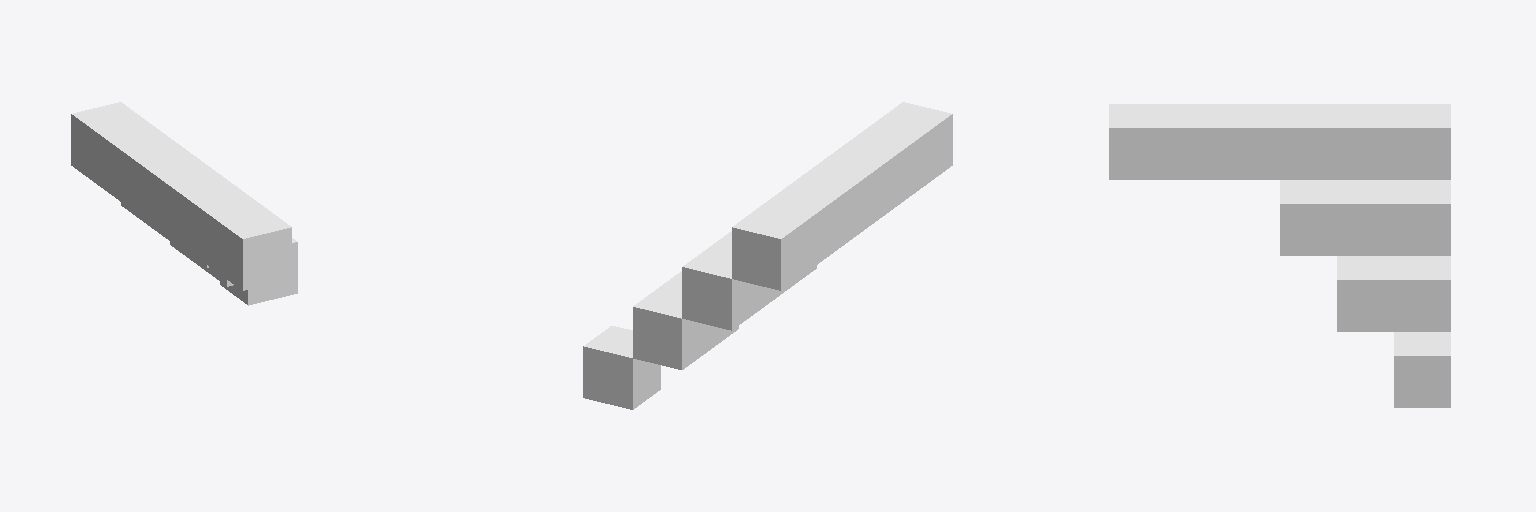
Rendered from YellowHouseParts-89.obj.
The picture shows the model from 3 angles: view 1: azimuth 30°, elevation 25°; view 2: azimuth 150°, elevation 25°; view 3: azimuth 270°, elevation 25°; orthographic projection.
Parts seen in each view (by area): view 1: object 1; view 2: object 1; view 3: object 1.
Boxes of the visible parts, <box> form: object 1: <box>71,102,297,305</box>; object 1: <box>583,102,952,409</box>; object 1: <box>1109,104,1450,407</box>.
Bounding box in the file's own units: 0.4 × 0.4 × 0.6.